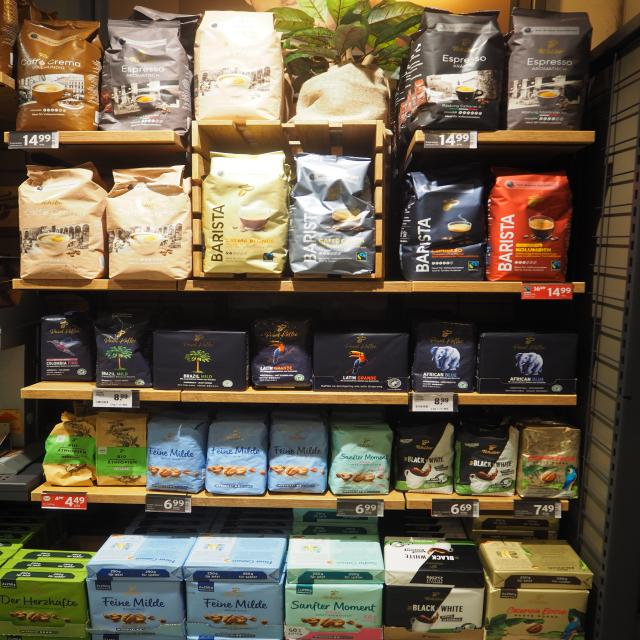AB Bohne: (409, 317, 476, 393)
AB Gemahlen: (475, 330, 578, 395)
Athiopien Bohne: (42, 410, 98, 488)
Athiopien Gemahlen: (94, 408, 152, 488)
BM Bohne: (92, 304, 151, 389)
BM Gemahlen: (151, 328, 251, 392)
BW Bohne: (453, 423, 521, 499), (392, 417, 455, 496)
BW Gemahlen: (383, 584, 487, 640), (382, 539, 486, 575)
Barista CB: (199, 148, 291, 274)
Barista CC: (288, 150, 376, 275)
Barista Espresso: (395, 170, 487, 282)
Barista Kolumbien: (484, 164, 578, 284)
C Fino Bohne: (39, 312, 94, 384)
CC Mild: (189, 8, 288, 123), (17, 159, 109, 280), (103, 165, 194, 282)
CC Vollmundig 36 Pads: (13, 19, 104, 132)
Colombia BB Bohne: (516, 420, 584, 500)
Colombia BB Gemahlen: (483, 587, 592, 640), (476, 542, 598, 576)
Empty Shelf: (3, 548, 99, 581)
Espresso Aromatisch: (500, 5, 597, 132), (97, 18, 196, 132)
Espresso Kraftig: (406, 3, 506, 132)
FM Bohne: (202, 418, 271, 496), (144, 414, 208, 494), (267, 418, 330, 496)
FM Gemahlen: (185, 579, 284, 640), (84, 578, 185, 636), (181, 534, 292, 572)
Herzhatfe Mundig: (0, 568, 88, 638)
LG Bohne: (247, 316, 313, 392)
LG Gemahlen: (313, 329, 412, 394)
SM Bohne: (326, 421, 396, 497)
SM Gemahlen: (283, 582, 385, 640), (283, 534, 386, 572)
